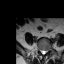CCS_normal: (42, 47, 44, 56)
LFS_normal: (46, 47, 48, 54)
LLS_normal: (44, 48, 46, 55)
RFS_normal: (39, 46, 41, 54)
RLS_normal: (41, 47, 42, 55)
